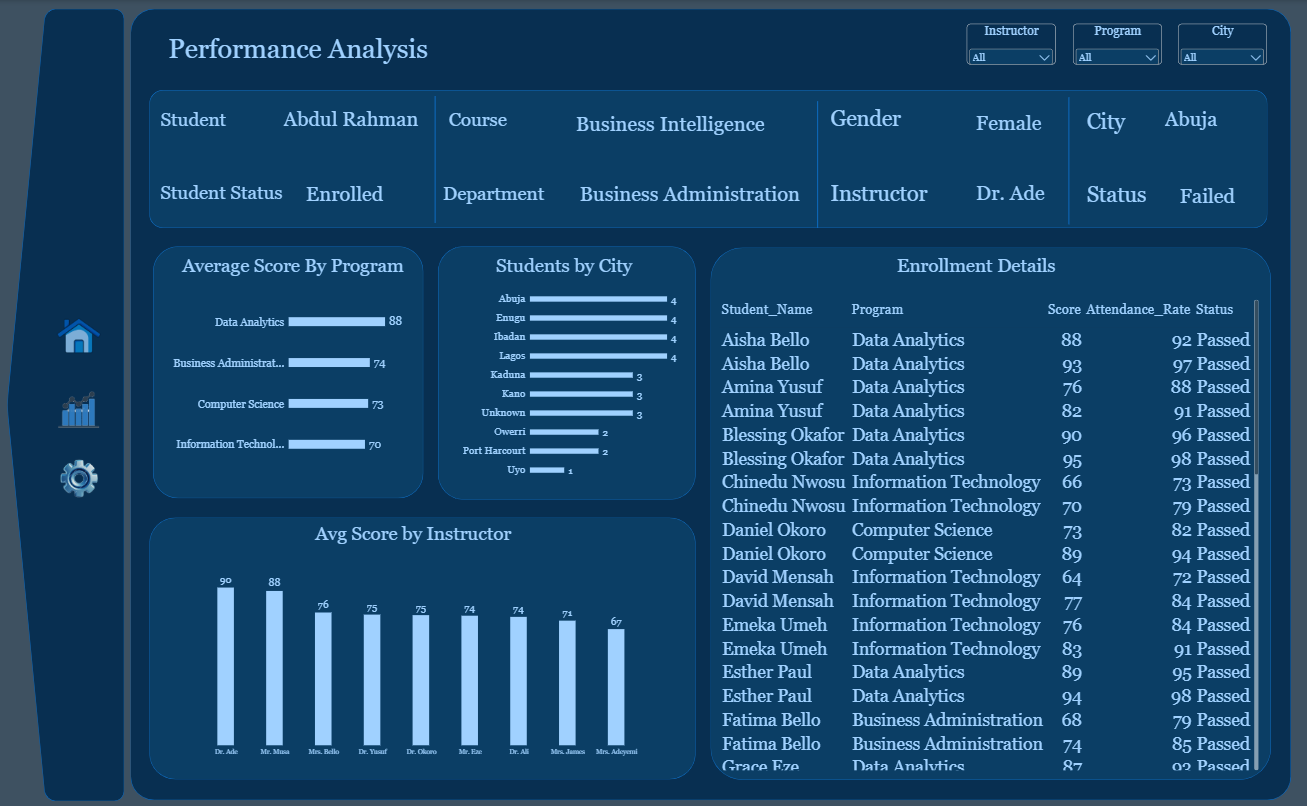

The page's visual inventory and layout, read from the dashboard file:
{"tool":"powerbi","page":{"name":"Performance Analysis","canvas":[2600,1600],"ordinal":1},"visuals":[{"type":"shape","box":[17.3,17.3,232.5,1568.3],"z":0},{"type":"shape","box":[262,16.7,2296.7,1566.5],"z":1000},{"type":"shape","box":[306.6,487.8,535.2,498.9],"z":2000},{"type":"shape","box":[298.2,178.4,2213.1,273.2],"z":3000},{"type":"shape","box":[298.2,1022.9,1081.5,518.4],"z":4000},{"type":"shape","box":[869.6,487.8,510.1,501.7],"z":5000},{"type":"shape","box":[1410.4,490.6,1109.4,1053.6],"z":6000},{"type":"image","box":[114.3,621.6,94.8,97.6],"z":7000},{"type":"image","box":[114.3,773.9,94.8,80],"z":8000},{"type":"image","box":[114.3,908.7,94,80],"z":9000},{"type":"textbox","box":[306.6,66.9,574.2,83.6],"z":10000},{"type":"textbox","box":[306.6,359.6,270.4,47.4],"z":11000},{"type":"textbox","box":[866.9,214.6,167.2,53],"z":12000},{"type":"textbox","box":[1647.3,504.5,577,50.2],"z":13000},{"type":"textbox","box":[891.9,504.5,454.3,50.2],"z":14000},{"type":"textbox","box":[342.8,504.5,479.4,75.3],"z":15000},{"type":"textbox","box":[577,1034.1,490.6,72.5],"z":16000},{"type":"clusteredBarChart","fields":{"Category":["Students.Program"],"Y":["Enrollment.Average Score"]},"box":[315,524,501.7,462.7],"z":17000},{"type":"clusteredColumnChart","fields":{"Category":["Courses.Instructor"],"Y":["Enrollment.Average Score"]},"box":[317.8,1106.6,1042.5,409.7],"z":18000},{"type":"slicer","title":"Instructor","fields":{"Values":["Courses.Instructor"]},"box":[1917.7,47.4,175.6,80.8],"z":19000},{"type":"cardVisual","fields":{"Data":["Min(Students.Gender)"]},"box":[1920.5,209,217.4,65],"z":20000},{"type":"textbox","box":[1647.3,209,228.6,75.3],"z":21000},{"type":"textbox","box":[1647.3,359.6,273.2,53],"z":22000},{"type":"cardVisual","fields":{"Data":["Min(Courses.Instructor)"]},"box":[1920.5,348.4,267.6,64.1],"z":23000},{"type":"shape","box":[2093.3,192.3,53,250.9],"z":24000},{"type":"textbox","box":[2154.6,214.6,119.9,64.1],"z":25000},{"type":"cardVisual","fields":{"Data":["Min(Students.City)"]},"box":[2294,203.5,217.4,64.1],"z":26000},{"type":"textbox","box":[2154.6,362.4,139.4,55.7],"z":27000},{"type":"cardVisual","fields":{"Data":["Min(Enrollment.Status)"]},"box":[2321.8,356.8,217.4,64.1],"z":28000},{"type":"cardVisual","fields":{"Data":["Min(Courses.Course_Name)"]},"box":[1128.9,211.8,434.8,64.1],"z":29000},{"type":"textbox","box":[880.8,362.4,248.1,55.7],"z":30000},{"type":"cardVisual","fields":{"Data":["Min(Students.Program)"]},"box":[1134.4,340.1,487.8,92],"z":31000},{"type":"shape","box":[1594.3,200.7,53,250.9],"z":32000},{"type":"shape","box":[839,189.5,53,250.9],"z":33000},{"type":"cardVisual","fields":{"Data":["Min(Students.Student Status)"]},"box":[593.7,362.4,245.3,47.4],"z":34000},{"type":"textbox","box":[320.5,214.6,228.6,58.5],"z":35000},{"type":"cardVisual","fields":{"Data":["Min(Students.Student_Name)"]},"box":[549.1,200.7,331.7,69.7],"z":36000},{"type":"clusteredBarChart","fields":{"Category":["Students.City"],"Y":["Enrollment.Total Students"]},"box":[880.8,529.6,479.4,457.1],"z":37000},{"type":"tableEx","fields":{"Values":["Students.Student_Name","Students.Program","Enrollment.Score","Enrollment.Attendance_Rate","Enrollment.Status"]},"box":[1410.4,579.8,1101,961.6],"z":38000},{"type":"slicer","title":"Program","fields":{"Values":["Students.Program"]},"box":[2126.7,47.4,175.6,80.8],"z":38001},{"type":"slicer","title":"City","fields":{"Values":["Students.City"]},"box":[2335.8,47.4,175.6,80.8],"z":38002}]}

Visuals, with their boxes in screenshot pixels (x1, y1, x2, y2), scaled from the page's 2600x1600 canvas onto the 1307x806 screenshot:
shape: select_region(9, 9, 126, 799)
shape: select_region(132, 8, 1286, 798)
shape: select_region(154, 246, 423, 497)
shape: select_region(150, 90, 1262, 227)
shape: select_region(150, 515, 694, 776)
shape: select_region(437, 246, 694, 498)
shape: select_region(709, 247, 1267, 778)
image: select_region(57, 313, 105, 362)
image: select_region(57, 390, 105, 430)
image: select_region(57, 458, 105, 498)
textbox: select_region(154, 34, 443, 76)
textbox: select_region(154, 181, 290, 205)
textbox: select_region(436, 108, 520, 135)
textbox: select_region(828, 254, 1118, 279)
textbox: select_region(448, 254, 677, 279)
textbox: select_region(172, 254, 413, 292)
textbox: select_region(290, 521, 537, 557)
clusteredBarChart - Students.Program x Enrollment.Average Score: select_region(158, 264, 411, 497)
clusteredColumnChart - Courses.Instructor x Enrollment.Average Score: select_region(160, 557, 684, 764)
"Instructor" slicer: select_region(964, 24, 1052, 65)
cardVisual - Min(Students.Gender): select_region(965, 105, 1075, 138)
textbox: select_region(828, 105, 943, 143)
textbox: select_region(828, 181, 965, 208)
cardVisual - Min(Courses.Instructor): select_region(965, 176, 1100, 208)
shape: select_region(1052, 97, 1079, 223)
textbox: select_region(1083, 108, 1143, 140)
cardVisual - Min(Students.City): select_region(1153, 103, 1262, 135)
textbox: select_region(1083, 183, 1153, 211)
cardVisual - Min(Enrollment.Status): select_region(1167, 180, 1276, 212)
cardVisual - Min(Courses.Course_Name): select_region(567, 107, 786, 139)
textbox: select_region(443, 183, 567, 211)
cardVisual - Min(Students.Program): select_region(570, 171, 815, 218)
shape: select_region(801, 101, 828, 227)
shape: select_region(422, 95, 448, 222)
cardVisual - Min(Students.Student Status): select_region(298, 183, 422, 206)
textbox: select_region(161, 108, 276, 138)
cardVisual - Min(Students.Student_Name): select_region(276, 101, 443, 136)
clusteredBarChart - Students.City x Enrollment.Total Students: select_region(443, 267, 684, 497)
tableEx - Students.Student_Name x Students.Program: select_region(709, 292, 1262, 776)
"Program" slicer: select_region(1069, 24, 1157, 65)
"City" slicer: select_region(1174, 24, 1262, 65)
